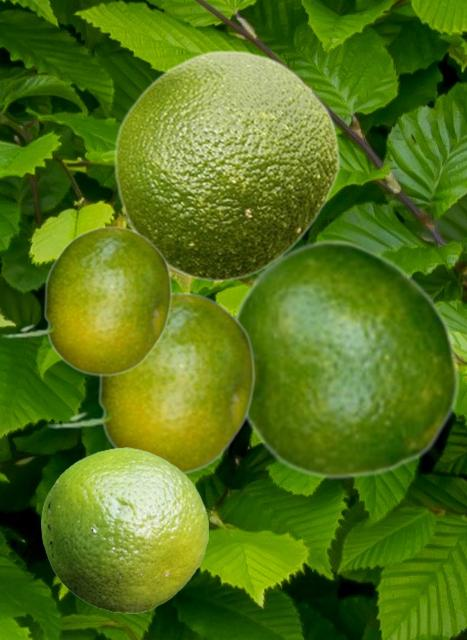calamansi: (231, 238, 460, 479), (113, 49, 339, 282), (46, 291, 254, 474), (41, 447, 207, 612), (1, 225, 171, 375)
